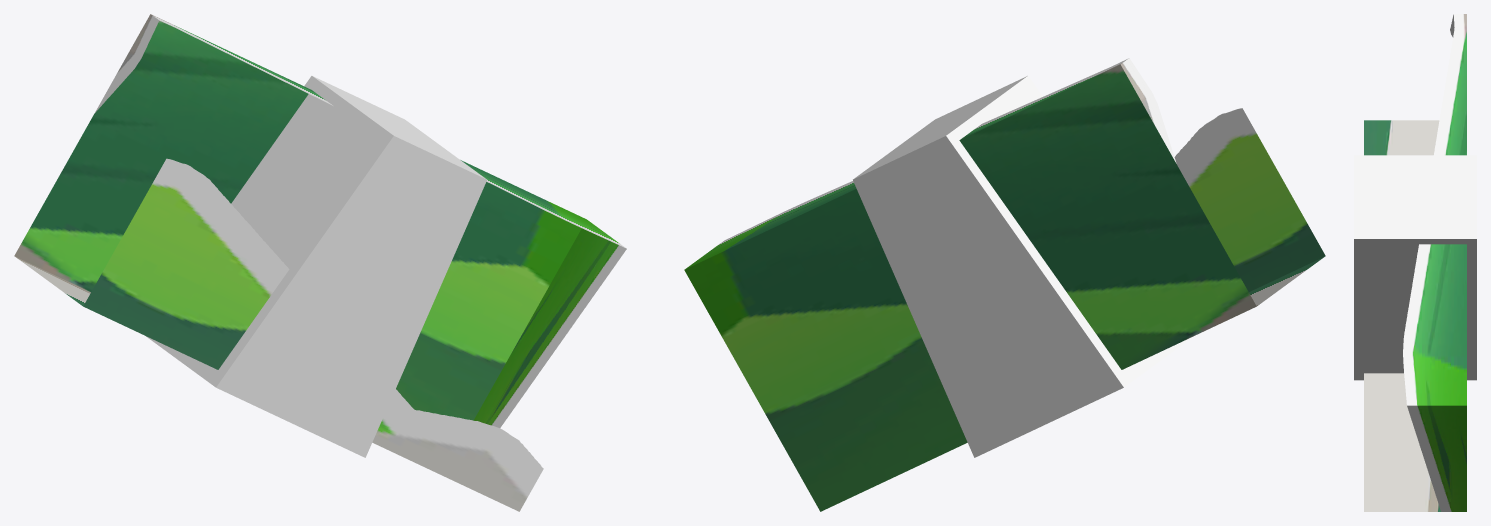
Rendered from Collectable_Coin_22.fbx.
3 renders of one model, left to right at view 1: azimuth 30°, elevation 25°; view 2: azimuth 150°, elevation 25°; view 3: azimuth 270°, elevation 25°, orthographic. The views are drawn at different scales.
Visible parts, largest first — view 1: MoneyStack; view 2: MoneyStack; view 3: MoneyStack.
Boxes of the visible parts, left/top/right/bottom form: MoneyStack: left=14, top=14, right=626, bottom=511; MoneyStack: left=684, top=58, right=1325, bottom=511; MoneyStack: left=1354, top=14, right=1476, bottom=511.
Size of the model in its own units: 0.7675 by 0.6669 by 0.1909.
